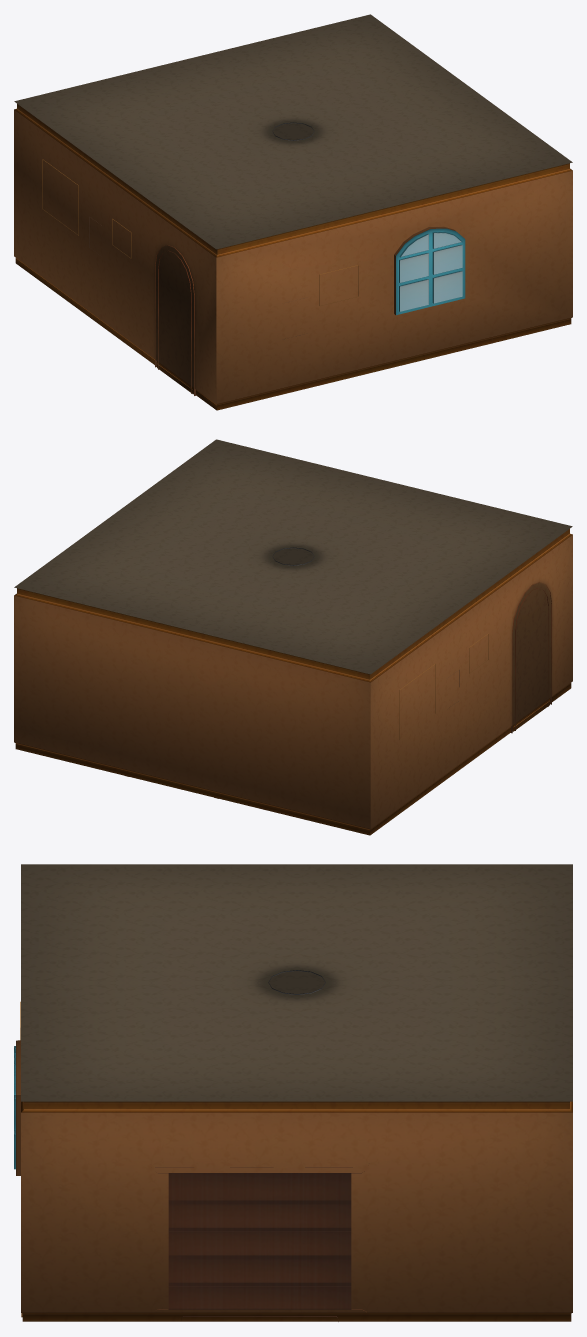
File: ShenFuXiuXiShi_01.FBX
3 views of the same model, one above another, from view 1: azimuth 30°, elevation 25°; view 2: azimuth 150°, elevation 25°; view 3: azimuth 270°, elevation 25° (orthographic). The views are drawn at different scales.
Visible parts, largest first — view 1: ShenFuXiuXiShi_01_changjing_01; view 2: ShenFuXiuXiShi_01_changjing_01; view 3: ShenFuXiuXiShi_01_changjing_01, ShenFuXiuXiShi_01_changjing_03.
Part boxes in pixels (x1,y1,x2,y2): ShenFuXiuXiShi_01_changjing_01: [14, 14, 572, 410]; ShenFuXiuXiShi_01_changjing_01: [14, 439, 572, 835]; ShenFuXiuXiShi_01_changjing_01: [14, 864, 572, 1321]; ShenFuXiuXiShi_01_changjing_03: [21, 1163, 369, 1320].
Size of the model in its own units: 3364 by 1466 by 3340.
